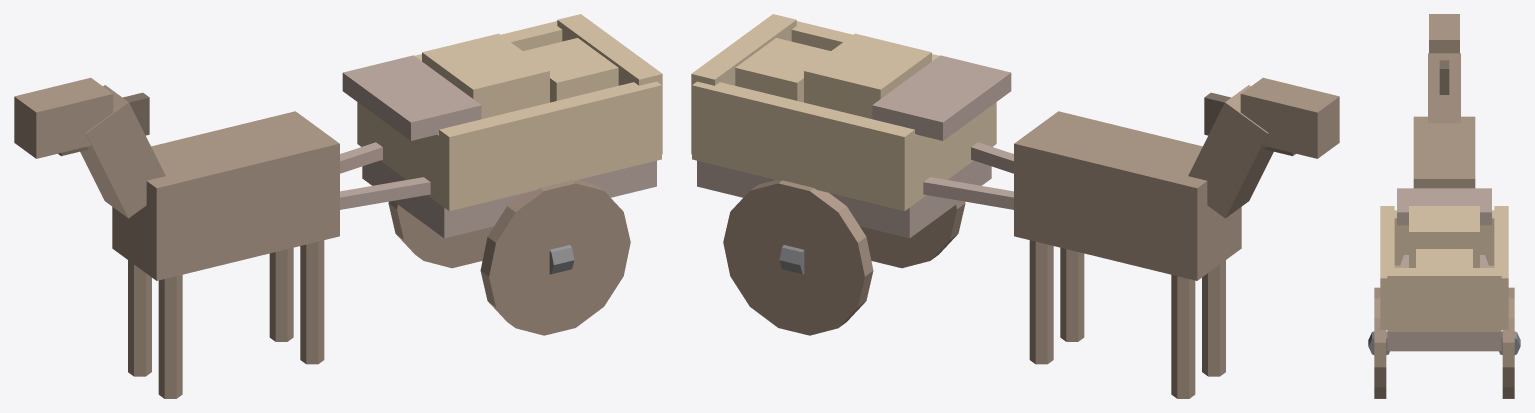
The model's file is CART.glb.
The picture shows the model from 3 angles, left to right: view 1: azimuth 30°, elevation 25°; view 2: azimuth 150°, elevation 25°; view 3: azimuth 270°, elevation 25°; orthographic projection. The views are drawn at different scales.
Parts seen in each view (by area): view 1: cartBody, horse, wheelL, head, wheelR, legBL, legFL, legFR, legBR; view 2: cartBody, horse, wheelR, head, wheelL, legBR, legFR, legFL, legBL; view 3: cartBody, horse, wheelL, wheelR, head.
Boxes of the visible parts, box(x1,y1,x2,y2) form: cartBody: box(58, 14, 662, 238); horse: box(80, 85, 339, 280); wheelL: box(480, 180, 630, 335); head: box(14, 77, 113, 158); wheelR: box(388, 201, 493, 268); legBL: box(300, 240, 324, 364); legFL: box(158, 275, 182, 398); legFR: box(128, 260, 151, 376); legBR: box(269, 247, 293, 341); cartBody: box(691, 14, 1295, 238); horse: box(1014, 85, 1273, 280); wheelR: box(723, 180, 873, 335); head: box(1240, 77, 1339, 158); wheelL: box(860, 201, 965, 268); legBR: box(1029, 240, 1053, 364); legFR: box(1171, 275, 1195, 398); legFL: box(1202, 260, 1225, 376); legBL: box(1060, 247, 1084, 341); cartBody: box(1380, 60, 1508, 351); horse: box(1413, 53, 1475, 188); wheelL: box(1368, 287, 1389, 398); wheelR: box(1499, 287, 1520, 398); head: box(1429, 14, 1459, 53).
Bounding box in the file's own units: 2.02 × 1.01 × 0.64.
